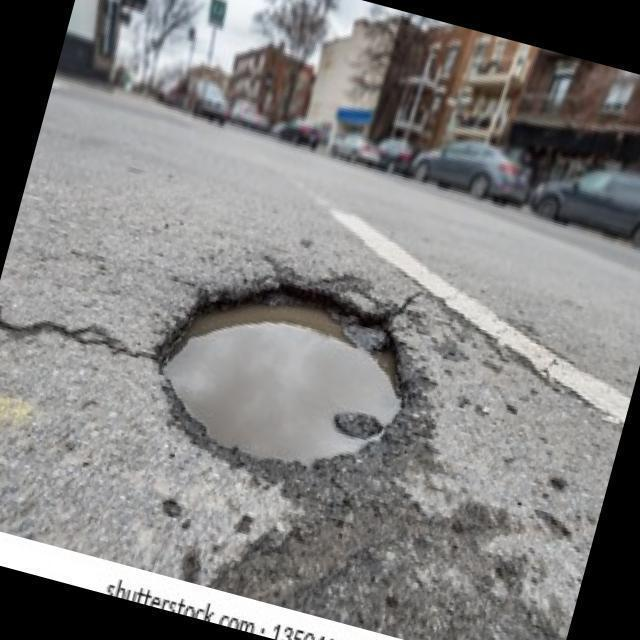pothole: (137, 247, 434, 493)
